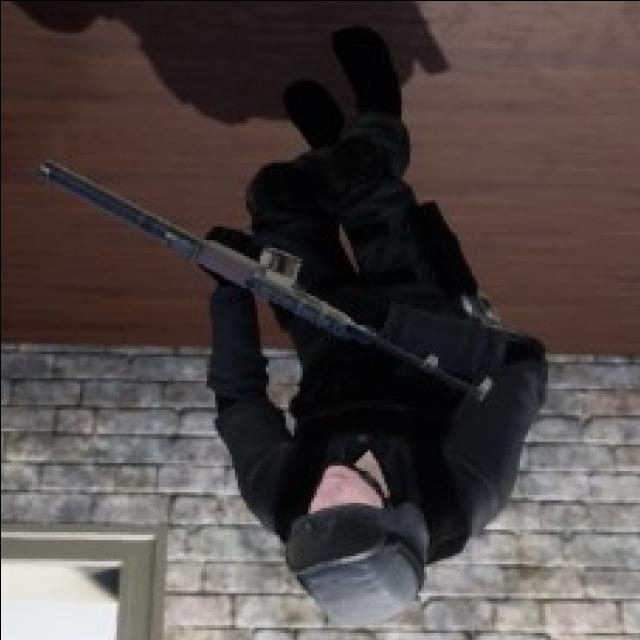rifle: (28, 148, 500, 414)
